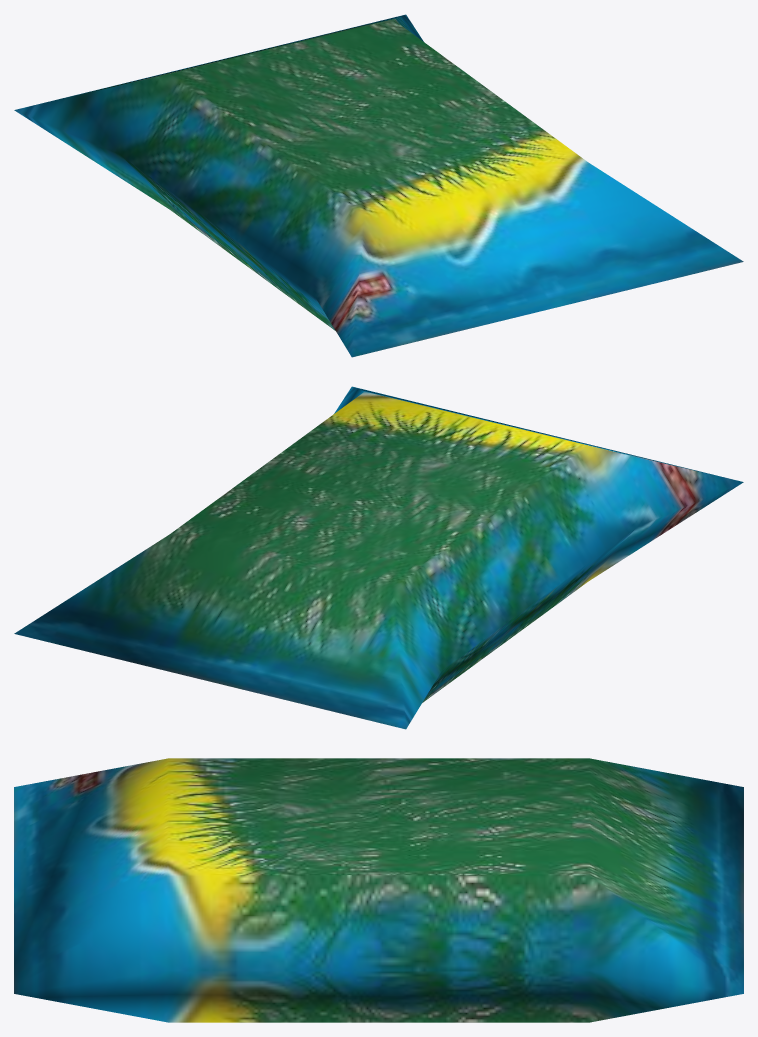
The model's file is Frying_02.glb.
3 views of the same model, one above another, from view 1: azimuth 30°, elevation 25°; view 2: azimuth 150°, elevation 25°; view 3: azimuth 270°, elevation 25° (orthographic). The views are drawn at different scales.
Visible parts, largest first — view 1: Frying_02; view 2: Frying_02; view 3: Frying_02.
Part boxes in pixels (box(x1,y1,x2,y2)): Frying_02: box(14, 14, 743, 357); Frying_02: box(14, 386, 743, 729); Frying_02: box(14, 758, 743, 1022).
Size of the model in its own units: 0.2306 by 0.0761 by 0.3442.
1 material, 1 textured.
